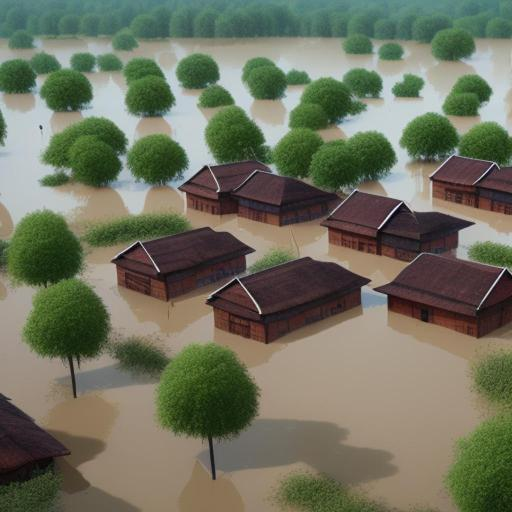flood: (0, 94, 512, 512), (83, 38, 512, 176), (359, 135, 512, 258), (0, 37, 112, 67)
house: (198, 249, 366, 351), (375, 246, 512, 344), (110, 220, 254, 307), (327, 187, 477, 263), (0, 383, 68, 492), (237, 169, 329, 227), (432, 150, 510, 218), (179, 158, 269, 216)
